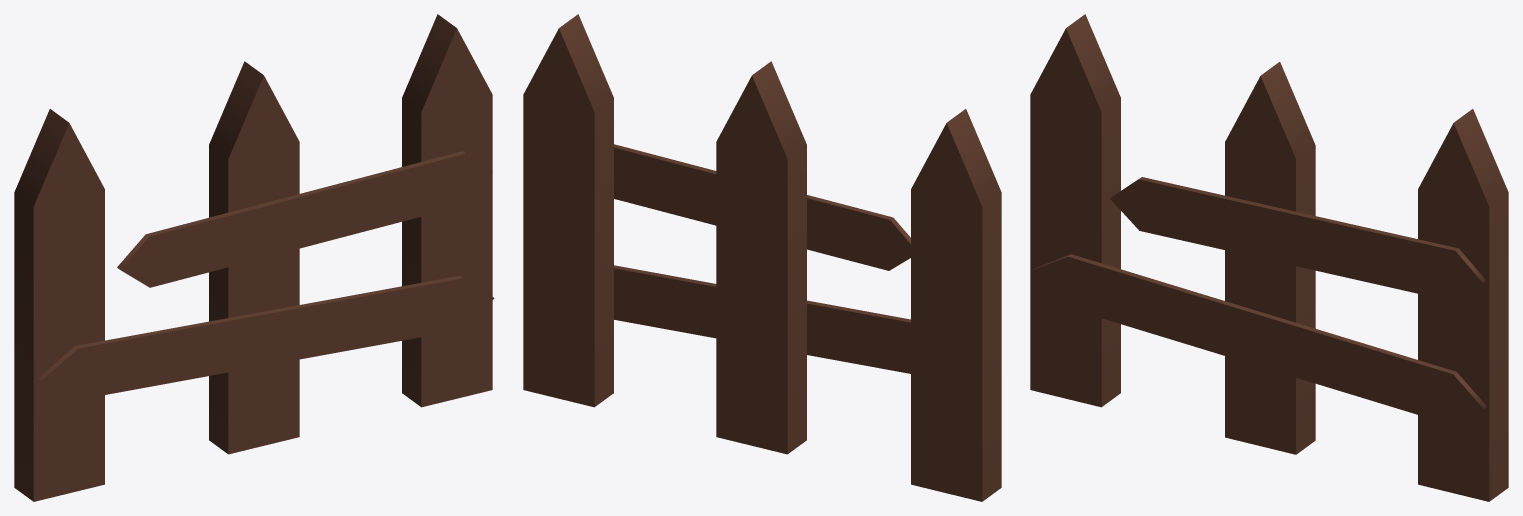
File: New Wooden Fence.fbx
3 renders of one model, left to right at view 1: azimuth 30°, elevation 25°; view 2: azimuth 150°, elevation 25°; view 3: azimuth 330°, elevation 25°, orthographic.
Visible parts, largest first — view 1: pCube6; view 2: pCube6; view 3: pCube6.
Boxes of the visible parts, x1,y1,x2,y2 form: pCube6: (14,14,494,501); pCube6: (523,14,1001,501); pCube6: (1030,14,1508,501).
Bounding box in the file's own units: 139 × 107 × 12.02.
